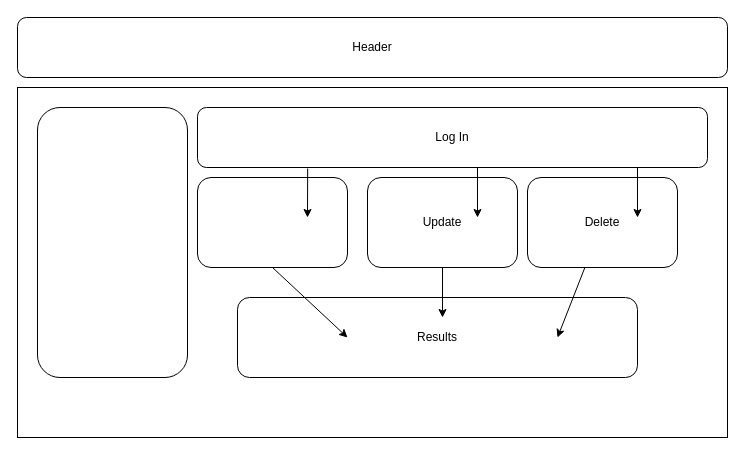
Some shapes in this 745 by 455 pixel diagram are drawn without their labels. The centre of each missing label's shape, as x and y in pixels:
"All Surveys" belongs at (x=112, y=242).
"Create" belongs at (x=272, y=222).
